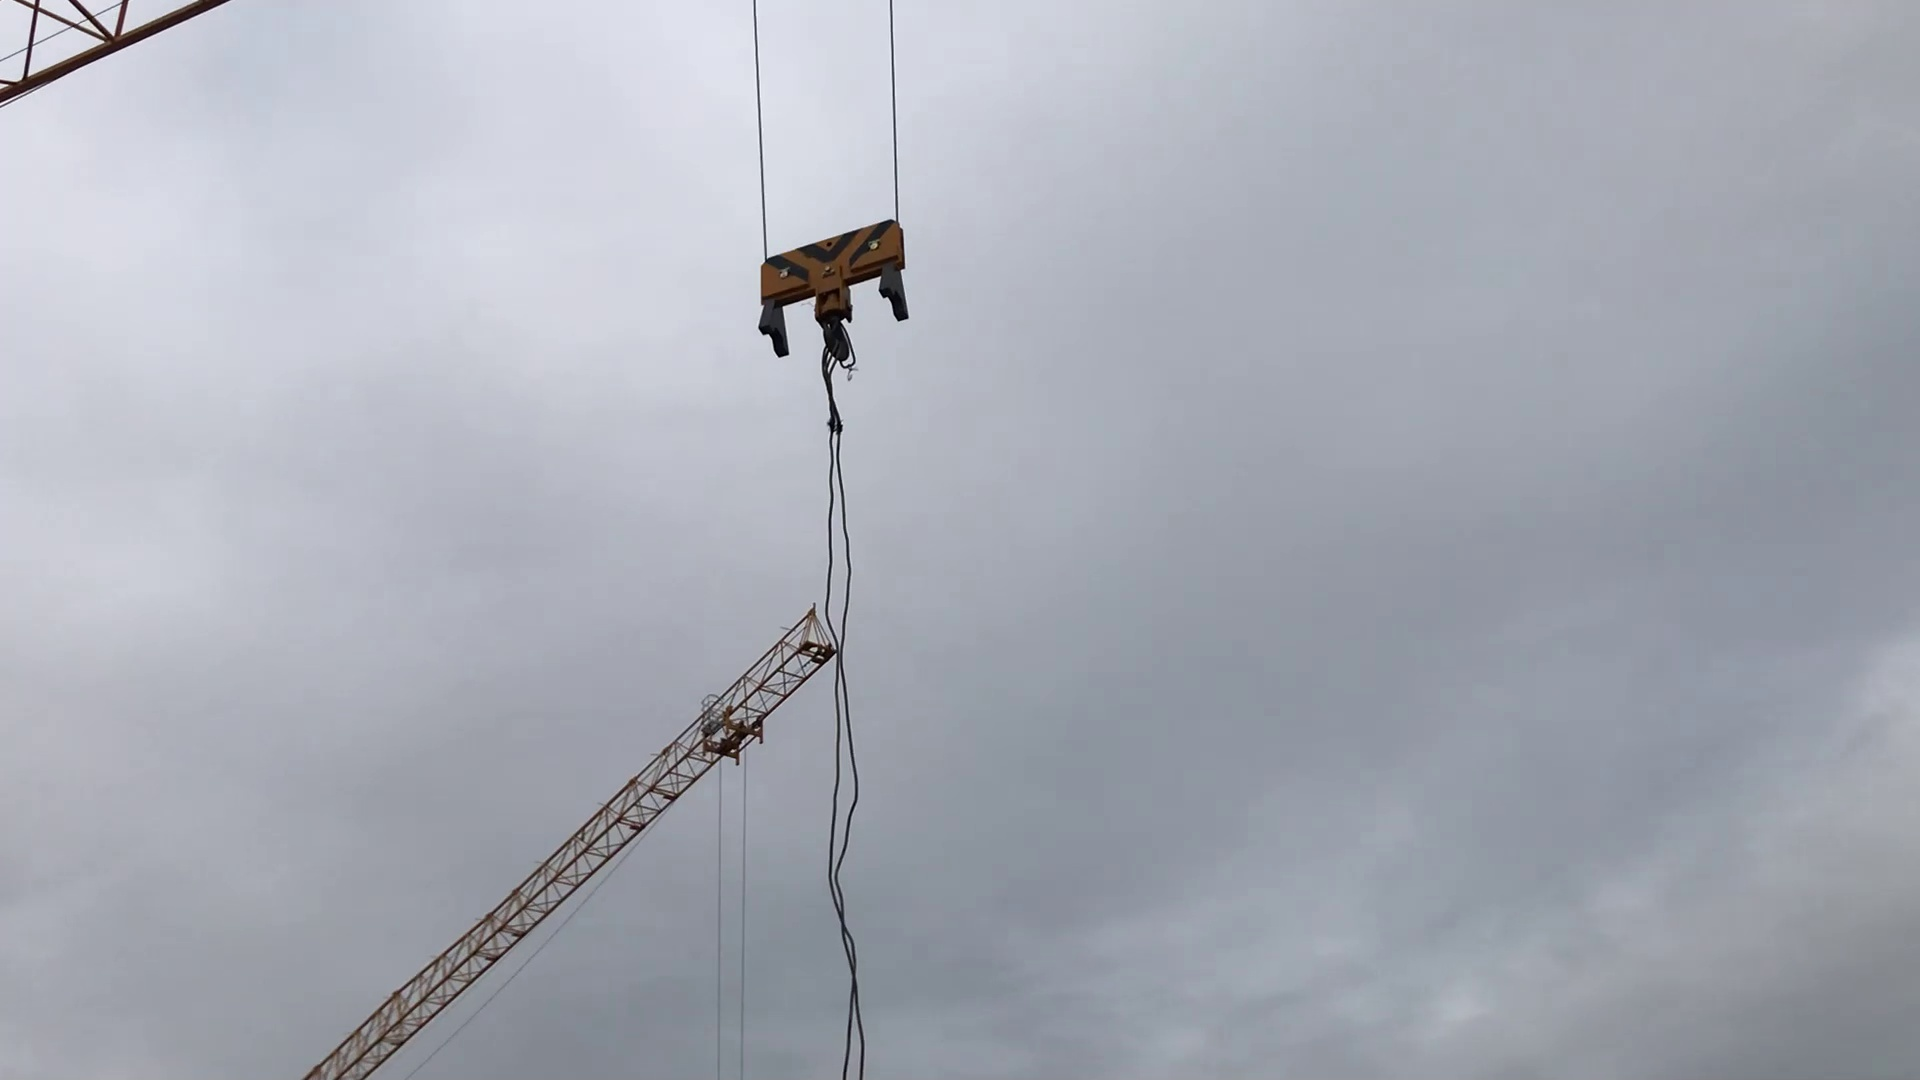hook: (746, 216, 944, 381)
